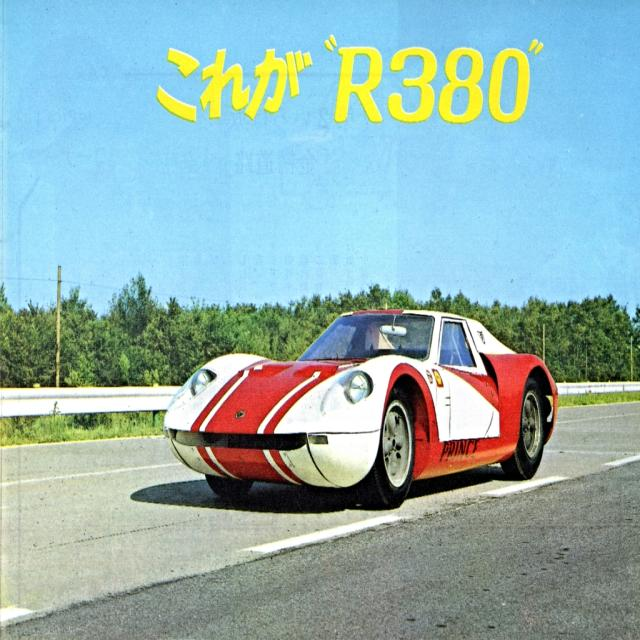Car: (159, 302, 559, 509)
